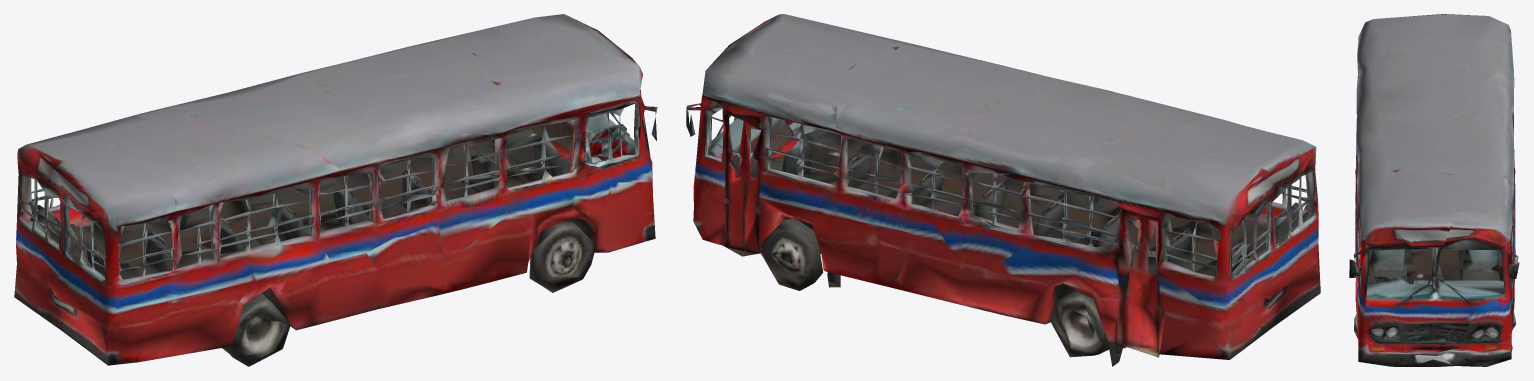
The model's file is sltb_1.glb.
The picture shows the model from 3 angles, left to right: view 1: azimuth 30°, elevation 25°; view 2: azimuth 150°, elevation 25°; view 3: azimuth 270°, elevation 25°; orthographic projection. The views are drawn at different scales.
Parts seen in each view (by area): view 1: tripo_node_790443ac-0242-469d-84a1-d87729b85045; view 2: tripo_node_790443ac-0242-469d-84a1-d87729b85045; view 3: tripo_node_790443ac-0242-469d-84a1-d87729b85045.
Part boxes in pixels (bbox=[...]): tripo_node_790443ac-0242-469d-84a1-d87729b85045: bbox=[14, 14, 657, 366]; tripo_node_790443ac-0242-469d-84a1-d87729b85045: bbox=[686, 14, 1320, 366]; tripo_node_790443ac-0242-469d-84a1-d87729b85045: bbox=[1349, 14, 1519, 366].
Bounding box in the file's own units: 0.9949 × 0.3536 × 0.3281.
1 material, 1 textured.
